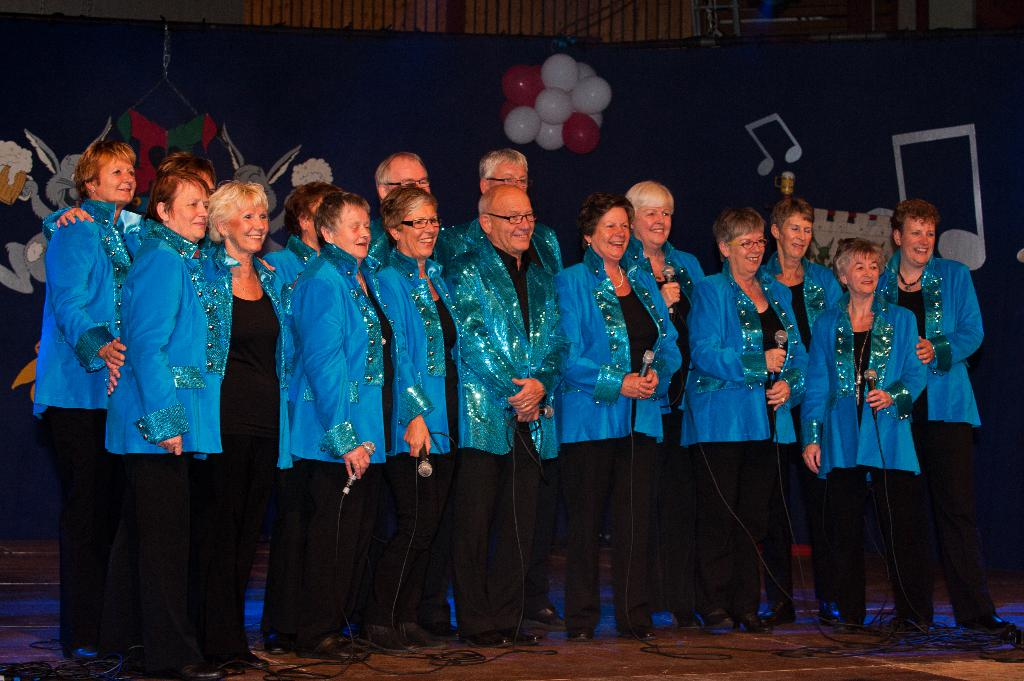Person: (32, 137, 1016, 680), (288, 190, 400, 665)
